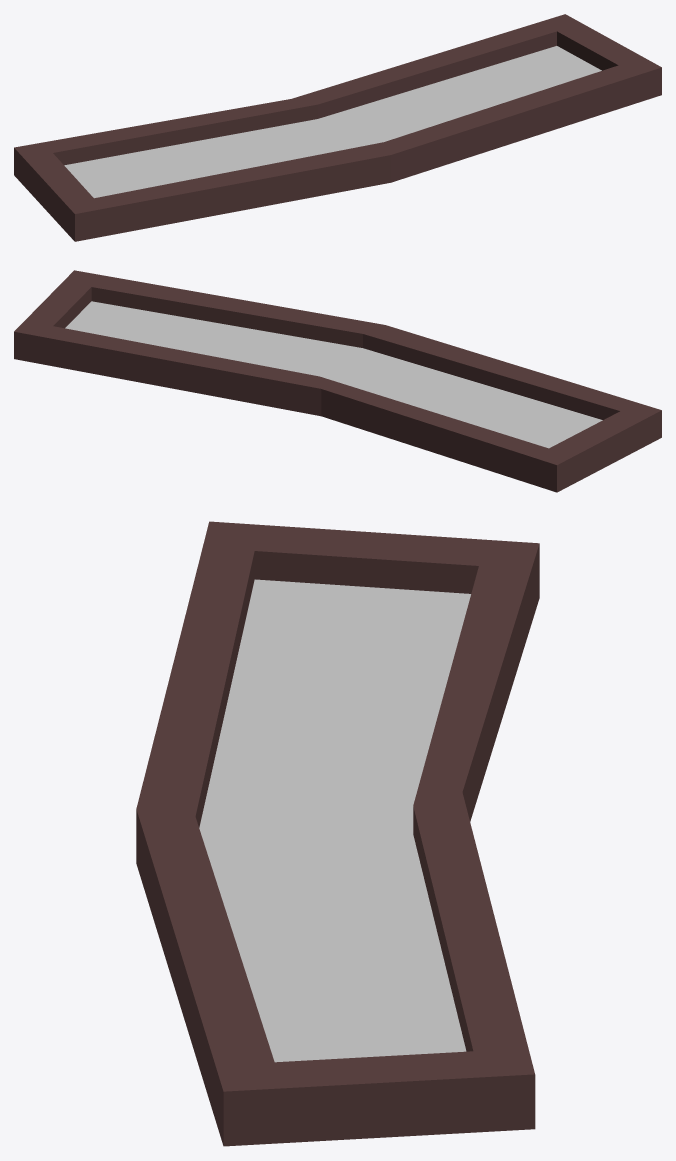
File: DarkRoseWoodFloorSmallRaisedBed2.fbx
3 views of the same model, one above another, from view 1: azimuth 30°, elevation 25°; view 2: azimuth 150°, elevation 25°; view 3: azimuth 270°, elevation 25° (orthographic). The views are drawn at different scales.
Visible parts, largest first — view 1: DarkRoseWoodFloorSmallRaisedBed2; view 2: DarkRoseWoodFloorSmallRaisedBed2; view 3: DarkRoseWoodFloorSmallRaisedBed2.
Part boxes in pixels (x1,y1,x2,y2): DarkRoseWoodFloorSmallRaisedBed2: (14, 14, 661, 241); DarkRoseWoodFloorSmallRaisedBed2: (14, 270, 661, 492); DarkRoseWoodFloorSmallRaisedBed2: (136, 521, 539, 1146).
Bounding box in the file's own units: 721 × 32.36 × 216.
